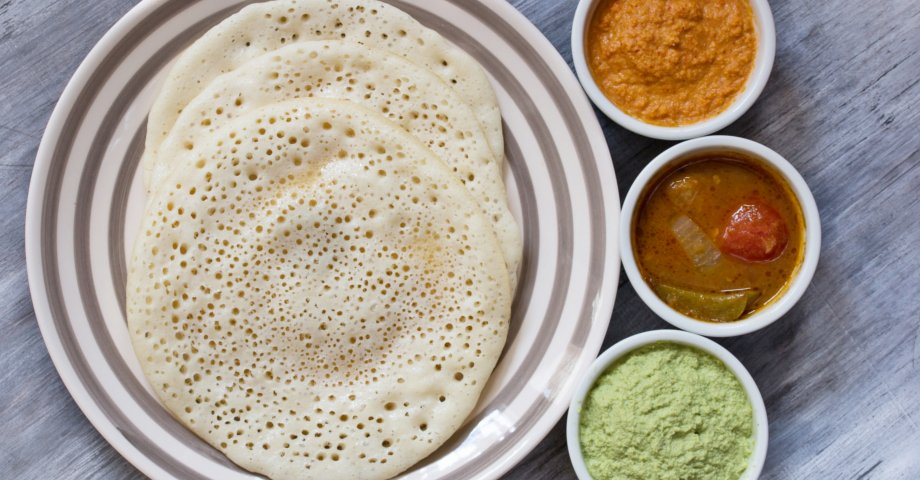dosa: (123, 2, 524, 479)
